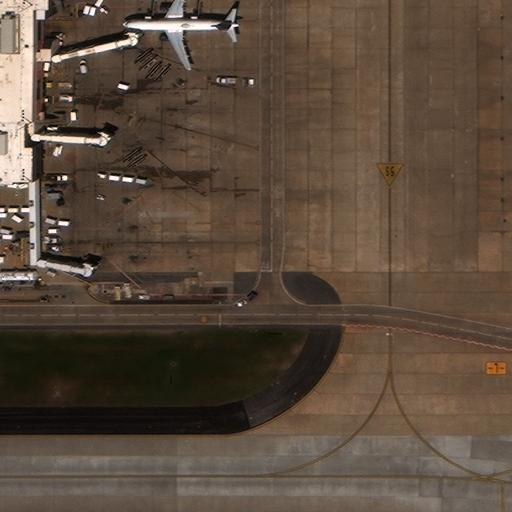Medium Civil Transport: (119, 0, 240, 69)
